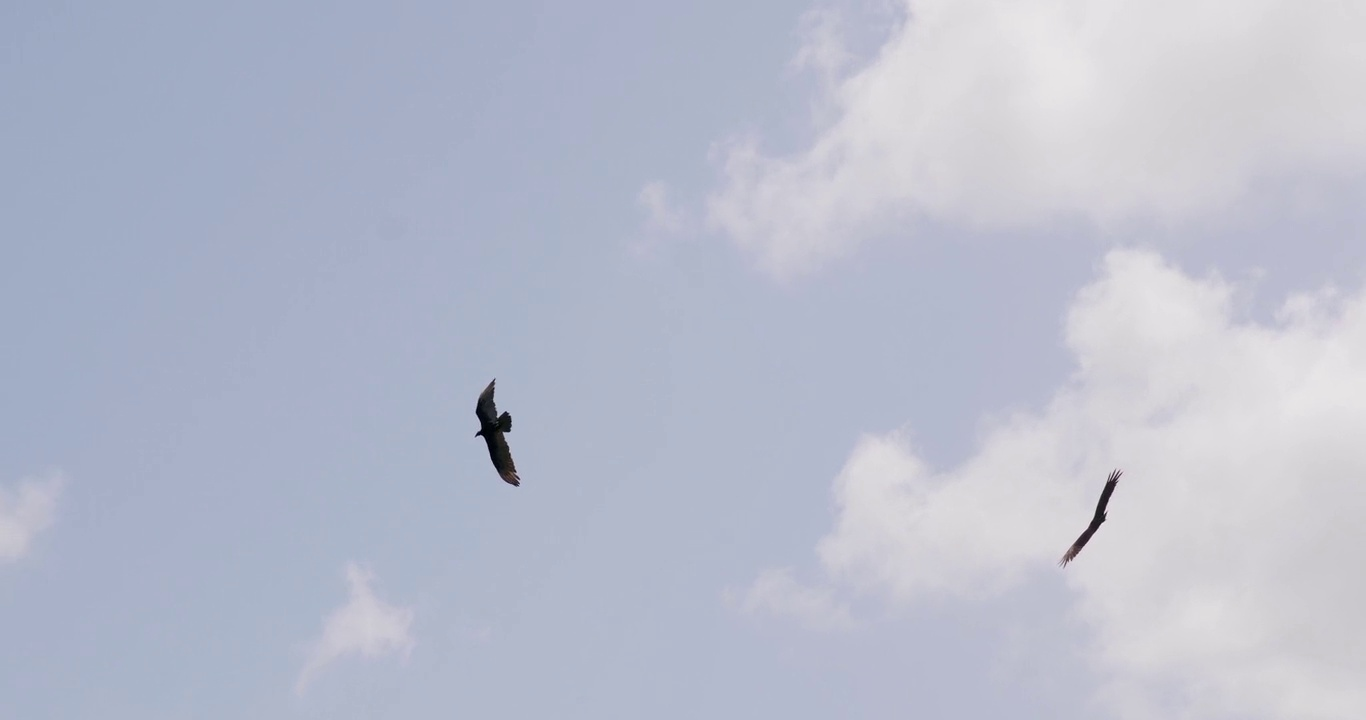bird: (1059, 469, 1122, 565), (472, 376, 519, 487)
